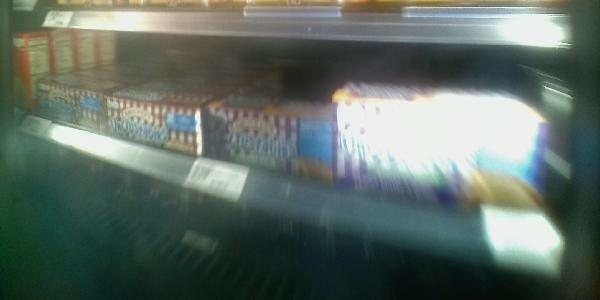icecream: (208, 110, 337, 240), (104, 97, 197, 214), (34, 81, 102, 172)
